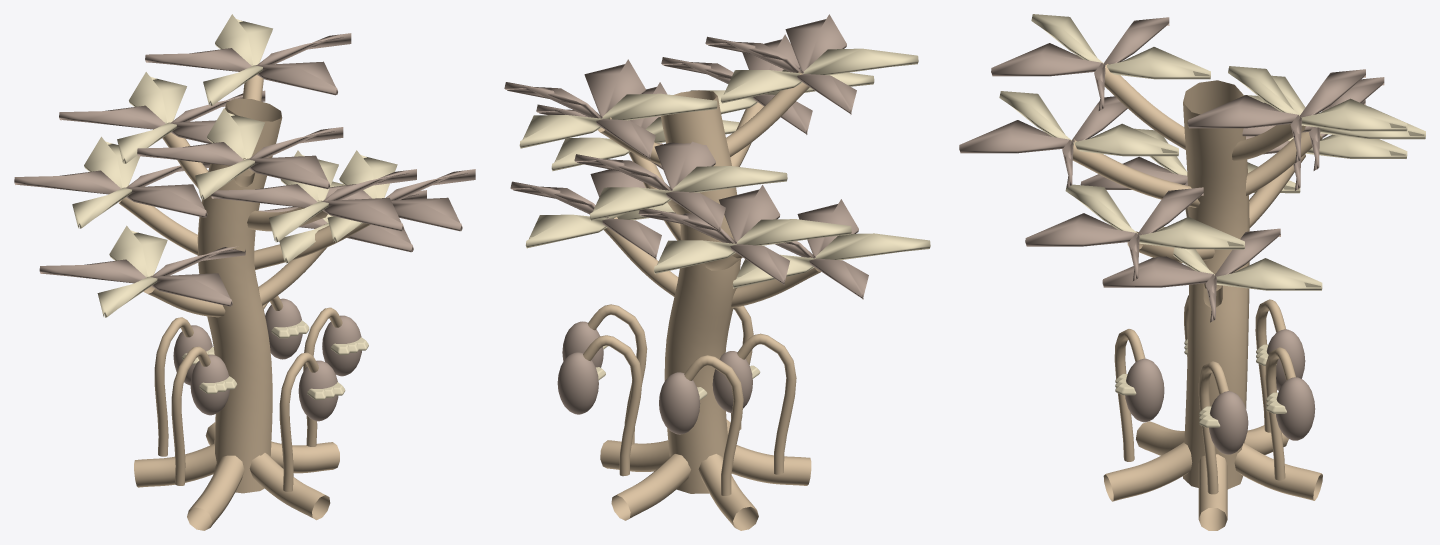
Rendered from bio_canopy_tree_13_near.glb.
3 renders of one model, left to right at view 1: azimuth 30°, elevation 25°; view 2: azimuth 150°, elevation 25°; view 3: azimuth 270°, elevation 25°, orthographic. The views are drawn at different scales.
Parts seen in each view (by area): view 1: Buttressed trunk, Broad canopy leaf.035, Broad canopy leaf.015, Broad canopy leaf.010, Broad canopy leaf.020, Broad canopy leaf.005, Broad canopy leaf.030, Broad canopy leaf.021, Broad canopy leaf.016, Broad canopy leaf.036, Broad canopy leaf.025, Broad canopy leaf.031 (+14 smaller); view 2: Buttressed trunk, Broad canopy leaf.015, Broad canopy leaf.035, Broad canopy leaf.005, Broad canopy leaf.030, Broad canopy leaf.006, Broad canopy leaf.031, Broad canopy leaf.016, Broad canopy leaf.036, Broad canopy leaf.021, Broad canopy leaf, Broad canopy leaf.020 (+13 smaller); view 3: Buttressed trunk, Broad canopy leaf.035, Broad canopy leaf.015, Broad canopy leaf.025, Broad canopy leaf, Broad canopy leaf.010, Broad canopy leaf.016, Broad canopy leaf.011, Broad canopy leaf.026, Broad canopy leaf.036, Broad canopy leaf.001, Pendant spore capsule.002 (+12 smaller).
Part boxes in pixels (x1=…): Buttressed trunk: x1=119, y1=75, x2=370, y2=530; Broad canopy leaf.035: x1=137, y1=127, x2=343, y2=189; Broad canopy leaf.015: x1=145, y1=33, x2=351, y2=95; Broad canopy leaf.010: x1=211, y1=169, x2=416, y2=231; Broad canopy leaf.020: x1=39, y1=246, x2=245, y2=306; Broad canopy leaf.005: x1=14, y1=162, x2=210, y2=217; Broad canopy leaf.030: x1=59, y1=90, x2=265, y2=143; Broad canopy leaf.021: x1=97, y1=225, x2=167, y2=317; Broad canopy leaf.016: x1=203, y1=14, x2=272, y2=106; Broad canopy leaf.036: x1=195, y1=108, x2=264, y2=199; Broad canopy leaf.025: x1=325, y1=169, x2=475, y2=231; Broad canopy leaf.031: x1=117, y1=72, x2=186, y2=163; Buttressed trunk: x1=598, y1=71, x2=820, y2=530; Broad canopy leaf.015: x1=504, y1=59, x2=655, y2=159; Broad canopy leaf.035: x1=705, y1=14, x2=856, y2=114; Broad canopy leaf.005: x1=638, y1=185, x2=789, y2=284; Broad canopy leaf.030: x1=574, y1=141, x2=725, y2=232; Broad canopy leaf.006: x1=654, y1=219, x2=851, y2=273; Broad canopy leaf.031: x1=589, y1=166, x2=787, y2=220; Broad canopy leaf.016: x1=519, y1=93, x2=717, y2=148; Broad canopy leaf.036: x1=720, y1=48, x2=918, y2=103; Broad canopy leaf.021: x1=732, y1=233, x2=930, y2=288; Broad canopy leaf: x1=510, y1=169, x2=661, y2=259; Broad canopy leaf.020: x1=775, y1=199, x2=868, y2=299; Buttressed trunk: x1=1073, y1=64, x2=1322, y2=530; Broad canopy leaf.035: x1=991, y1=17, x2=1169, y2=110; Broad canopy leaf.015: x1=1187, y1=69, x2=1365, y2=163; Broad canopy leaf.025: x1=1025, y1=187, x2=1203, y2=281; Broad canopy leaf: x1=1102, y1=228, x2=1280, y2=322; Broad canopy leaf.010: x1=959, y1=96, x2=1127, y2=187; Broad canopy leaf.016: x1=1228, y1=66, x2=1407, y2=131; Broad canopy leaf.011: x1=999, y1=91, x2=1178, y2=156; Broad canopy leaf.026: x1=1065, y1=184, x2=1244, y2=249; Broad canopy leaf.036: x1=1031, y1=14, x2=1210, y2=79; Broad canopy leaf.001: x1=1157, y1=226, x2=1322, y2=290; Pendant spore capsule.002: x1=1125, y1=358, x2=1164, y2=422.
Size of the model in its own units: 2.97 by 2.99 by 3.05.
